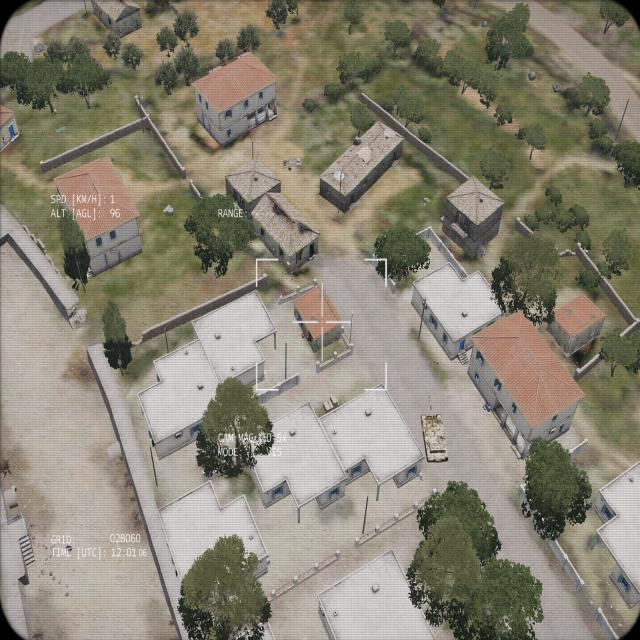tank: (419, 390, 449, 464)
